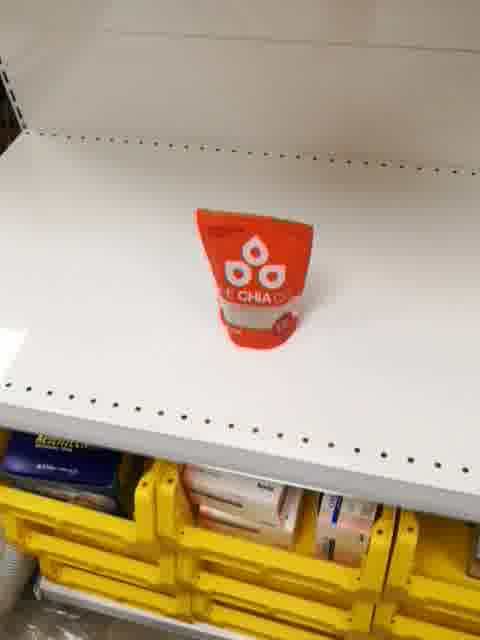whitechia: (194, 204, 314, 353)
